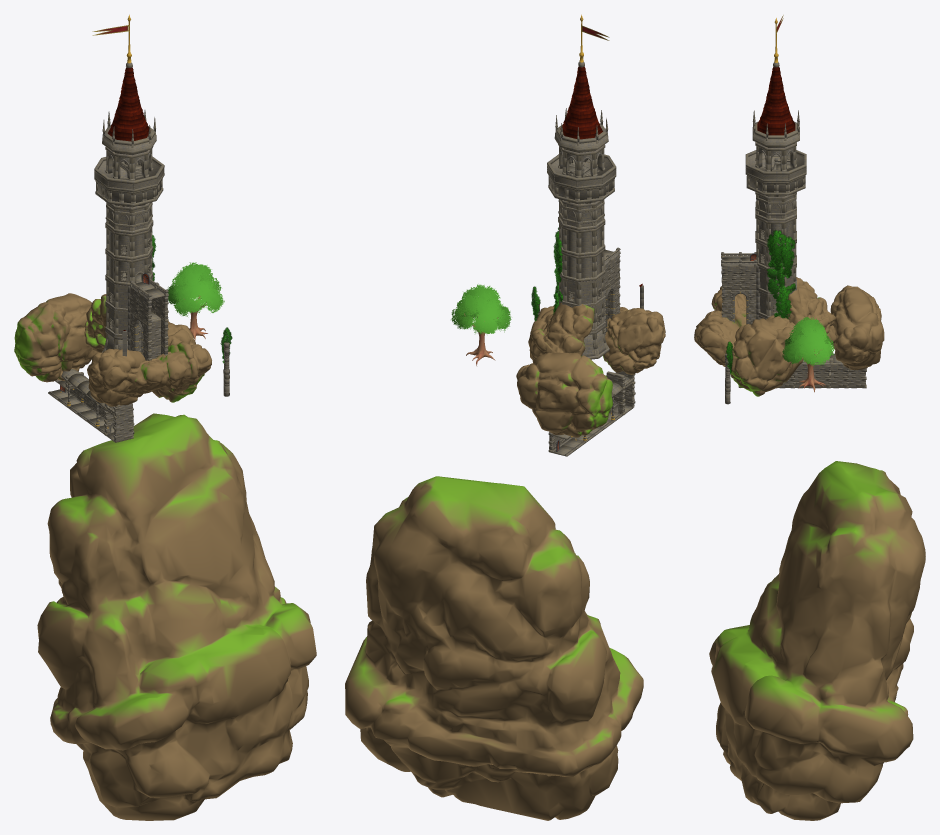
The model's file is cell_x-1_z-1_render.gltf.
3 views of the same model, side by side, from view 1: azimuth 30°, elevation 25°; view 2: azimuth 150°, elevation 25°; view 3: azimuth 270°, elevation 25° (orthographic). The views are drawn at different scales.
Parts seen in each view (by area): view 1: SM_ENV_cliff_castle_02_LOD0.024, SM_ENV_cliff_castle_01_LOD0.042, SM_ENV_cliff_castle_02_LOD0.006, SM_ENV_cliff_castle_01_LOD0.039, SM_ENV_tree_castle_01_LOD0.043, SM_MOD_tower_segment_top_castle_LOD0.001, SM_MOD_tower_roof_castle_LOD0.009, SM_ENV_cliff_castle_02_LOD0.015, SM_MOD_tower_segment_top_deco_castle_LOD0.005, SM_MOD_tower_segment_wall_castle_LOD0.014, SM_ENV_cliff_castle_01_LOD0.032, SM_MOD_tower_segment_window_castle_LOD0.019 (+1 smaller); view 2: SM_ENV_cliff_castle_02_LOD0.024, SM_ENV_cliff_castle_01_LOD0.042, SM_ENV_cliff_castle_01_LOD0.039, SM_ENV_tree_castle_01_LOD0.043, SM_ENV_cliff_castle_02_LOD0.015, SM_MOD_tower_segment_top_castle_LOD0.001, SM_MOD_tower_roof_castle_LOD0.009, SM_MOD_tower_segment_window_castle_LOD0.019, SM_MOD_tower_segment_top_deco_castle_LOD0.005, SM_MOD_tower_segment_wall_castle_LOD0.014, SM_MOD_tower_segment_base_castle_LOD0.001; view 3: SM_ENV_cliff_castle_02_LOD0.024, SM_ENV_cliff_castle_01_LOD0.032, SM_ENV_cliff_castle_01_LOD0.042, SM_ENV_tree_castle_01_LOD0.043, SM_MOD_tower_segment_top_castle_LOD0.001, SM_ENV_cliff_castle_02_LOD0.006, SM_MOD_tower_roof_castle_LOD0.009, SM_ENV_cliff_castle_02_LOD0.015, SM_MOD_tower_segment_wall_castle_LOD0.014, SM_MOD_tower_segment_top_deco_castle_LOD0.005, SM_ENV_cliff_castle_01_LOD0.039, SM_ENV_bush_castle_08_LOD0.069 (+5 smaller).
Boxes of the visible parts, x1,y1,x2,y2 form: SM_ENV_cliff_castle_02_LOD0.024: [37, 413, 316, 820]; SM_ENV_cliff_castle_01_LOD0.042: [14, 293, 98, 382]; SM_ENV_cliff_castle_02_LOD0.006: [134, 341, 211, 394]; SM_ENV_cliff_castle_01_LOD0.039: [87, 348, 145, 406]; SM_ENV_tree_castle_01_LOD0.043: [167, 262, 224, 340]; SM_MOD_tower_segment_top_castle_LOD0.001: [94, 156, 164, 207]; SM_MOD_tower_roof_castle_LOD0.009: [107, 67, 150, 141]; SM_ENV_cliff_castle_02_LOD0.015: [84, 294, 106, 352]; SM_MOD_tower_segment_top_deco_castle_LOD0.005: [102, 110, 156, 155]; SM_MOD_tower_segment_wall_castle_LOD0.014: [105, 201, 153, 234]; SM_ENV_cliff_castle_01_LOD0.032: [152, 321, 204, 402]; SM_MOD_tower_segment_window_castle_LOD0.019: [105, 275, 153, 311]; SM_ENV_cliff_castle_02_LOD0.024: [345, 476, 643, 820]; SM_ENV_cliff_castle_01_LOD0.042: [516, 352, 612, 437]; SM_ENV_cliff_castle_01_LOD0.039: [603, 308, 665, 374]; SM_ENV_tree_castle_01_LOD0.043: [451, 284, 511, 365]; SM_ENV_cliff_castle_02_LOD0.015: [529, 298, 594, 362]; SM_MOD_tower_segment_top_castle_LOD0.001: [547, 154, 616, 204]; SM_MOD_tower_roof_castle_LOD0.009: [560, 66, 602, 139]; SM_MOD_tower_segment_window_castle_LOD0.019: [558, 273, 605, 306]; SM_MOD_tower_segment_top_deco_castle_LOD0.005: [554, 108, 608, 152]; SM_MOD_tower_segment_wall_castle_LOD0.014: [558, 199, 605, 230]; SM_MOD_tower_segment_base_castle_LOD0.001: [582, 325, 609, 359]; SM_ENV_cliff_castle_02_LOD0.024: [709, 461, 925, 820]; SM_ENV_cliff_castle_01_LOD0.032: [730, 315, 803, 396]; SM_ENV_cliff_castle_01_LOD0.042: [830, 285, 884, 370]; SM_ENV_tree_castle_01_LOD0.043: [782, 317, 834, 392]; SM_MOD_tower_segment_top_castle_LOD0.001: [745, 150, 806, 196]; SM_ENV_cliff_castle_02_LOD0.006: [694, 310, 739, 366]; SM_MOD_tower_roof_castle_LOD0.009: [757, 66, 795, 135]; SM_ENV_cliff_castle_02_LOD0.015: [787, 277, 836, 343]; SM_MOD_tower_segment_wall_castle_LOD0.014: [755, 192, 796, 221]; SM_MOD_tower_segment_top_deco_castle_LOD0.005: [752, 110, 799, 147]; SM_ENV_cliff_castle_01_LOD0.039: [711, 286, 746, 327]; SM_ENV_bush_castle_08_LOD0.069: [767, 229, 786, 271].
Bounding box in the file's own units: 63.96 × 187 × 51.84.
Materials: 13 (12 with a texture image).
